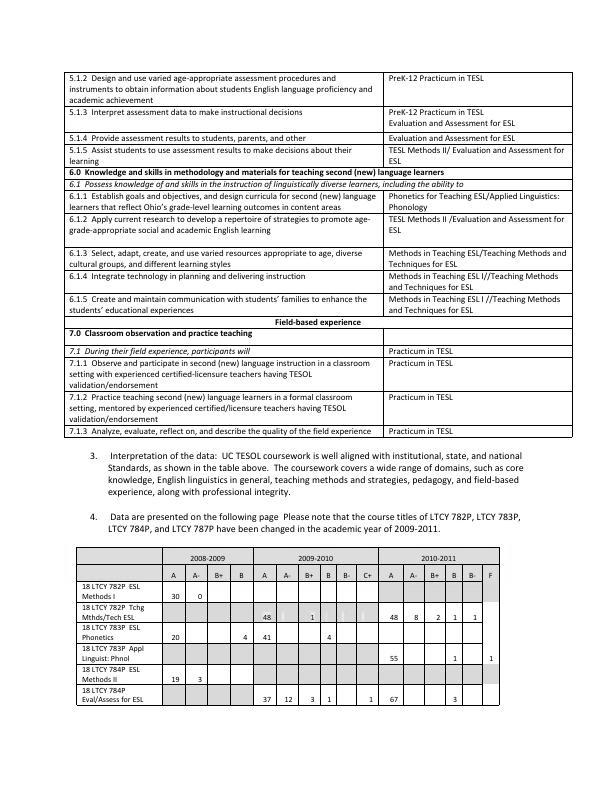table: (60, 68, 583, 444), (71, 543, 505, 712)
text: (87, 448, 533, 500), (86, 509, 531, 537)
